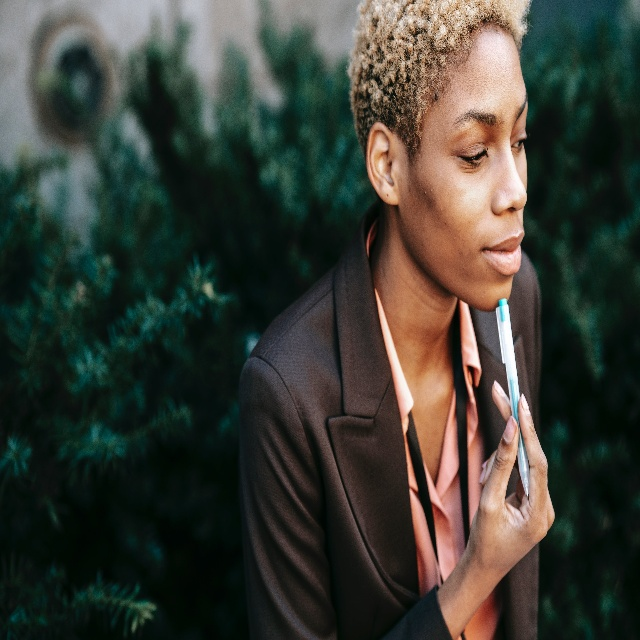Sin_guantes: (464, 378, 555, 595)
